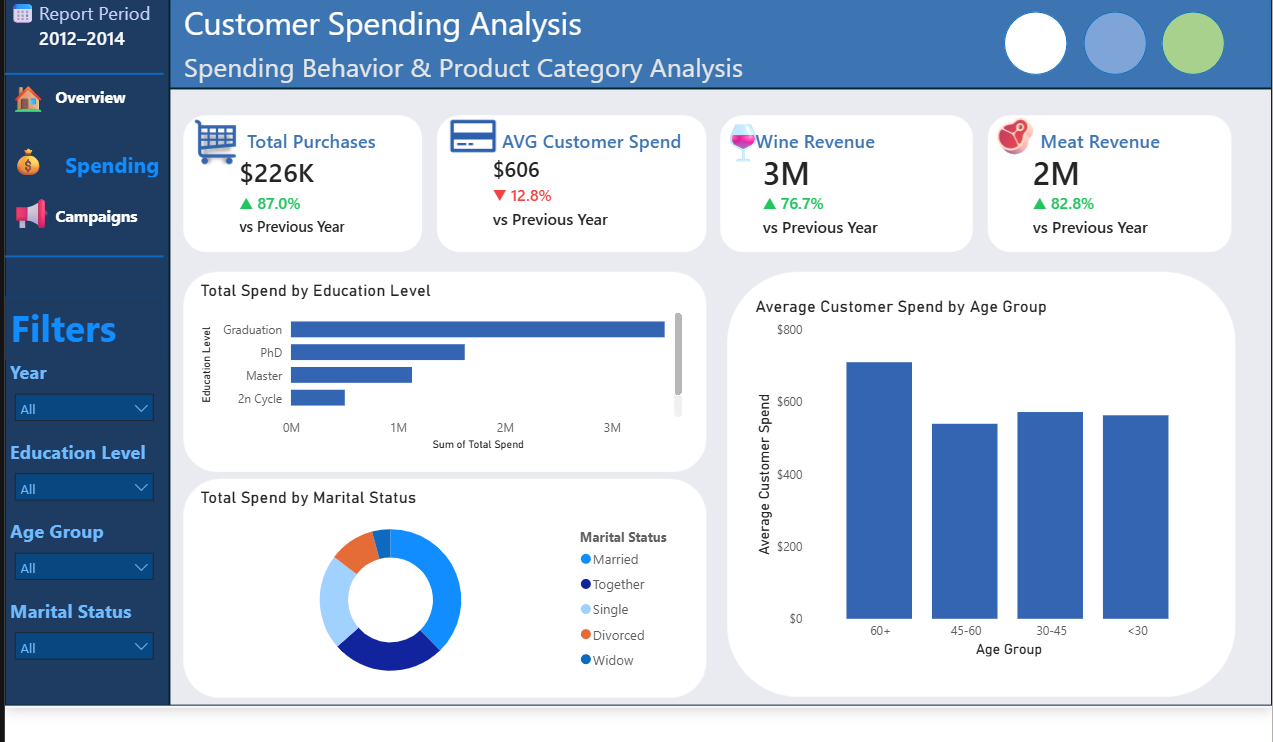

This screenshot's page, from the dashboard's own definition file:
{"tool":"powerbi","page":{"name":"Spending","canvas":[1280,720],"ordinal":1},"visuals":[{"type":"clusteredColumnChart","fields":{"Category":["cleaned_marketing_campaign.Age Group"],"Y":["Calendar.Average Customer Spend"]},"box":[752,304,464,368],"z":0},{"type":"donutChart","title":"Total Spend by Marital Status","fields":{"Category":["cleaned_marketing_campaign.Marital Status"],"Y":["Sum(cleaned_marketing_campaign.Total Spend)"]},"box":[192,496,496,208],"z":1000},{"type":"clusteredBarChart","title":"Total Spend by Education Level","fields":{"Category":["cleaned_marketing_campaign.Education Level"],"Y":["Sum(cleaned_marketing_campaign.Total Spend)"]},"box":[192,288,496,176],"z":2000},{"type":"cardVisual","fields":{"Data":["Calendar.Wine Revenue"]},"box":[736,128,208,96],"z":3000},{"type":"cardVisual","fields":{"Data":["Calendar.Total Purchases"]},"box":[208,128,208,96],"z":4000},{"type":"textbox","box":[240,128,208,48],"z":5000},{"type":"textbox","box":[496,128,208,48],"z":6000},{"type":"textbox","box":[1040,128,224,48],"z":7000},{"type":"pageNavigator","box":[32,72,144,184],"z":8000},{"type":"textbox","box":[0,80,80,48],"z":9000},{"type":"textbox","box":[0,144,64,48],"z":10000},{"type":"textbox","box":[0,192,48,64],"z":11000},{"type":"shape","box":[0,256,160,16],"z":12000},{"type":"shape","box":[0,64,160,32],"z":13000},{"type":"slicer","title":"Year","fields":{"Values":["cleaned_marketing_campaign.Customer Enrollment Date.Variation.Date Hierarchy.Year"]},"box":[0,368,160,80],"z":14000},{"type":"slicer","title":"Education Level","fields":{"Values":["cleaned_marketing_campaign.Education Level"]},"box":[0,448,160,80],"z":15000},{"type":"slicer","title":"Age Group","fields":{"Values":["cleaned_marketing_campaign.Age Group"]},"box":[0,528,160,80],"z":16000},{"type":"slicer","title":"Marital Status","fields":{"Values":["cleaned_marketing_campaign.Marital Status"]},"box":[0,608,160,64],"z":17000},{"type":"textbox","box":[0,304,160,64],"z":18000},{"type":"textbox","box":[176,0,608,64],"z":19000},{"type":"textbox","box":[0,0,160,80],"z":20000},{"type":"textbox","box":[176,48,672,64],"z":21000},{"type":"cardVisual","fields":{"Data":["Calendar.Average Customer Spend"]},"box":[464,128,240,96],"z":22000},{"type":"textbox","box":[752,128,208,48],"z":23000},{"type":"cardVisual","fields":{"Data":["Calendar.Meat Revenue"]},"box":[1008,128,160,96],"z":24000},{"type":"shape","box":[1008,16,64,64],"z":25000},{"type":"shape","box":[1088,16,64,64],"z":26000},{"type":"shape","box":[1168,16,64,64],"z":27000},{"type":"cardVisual","fields":{"Data":["Calendar.Purchase Growth Label"]},"box":[208,176,192,64],"z":28000},{"type":"cardVisual","fields":{"Data":["Calendar.Customer Growth Text"]},"box":[207.4,192.3,175.6,80.3],"z":30000},{"type":"cardVisual","fields":{"Data":["Calendar.Average Customer Spend Growth Label"]},"box":[464,144,176,112],"z":31000},{"type":"cardVisual","fields":{"Data":["Calendar.Customer Growth Text"]},"box":[464,192,240,64],"z":32000},{"type":"cardVisual","fields":{"Data":["Calendar.Wine Growth Label"]},"box":[736,176,256,64],"z":33000},{"type":"cardVisual","fields":{"Data":["Calendar.Customer Growth Text"]},"box":[735.9,199.9,255.9,65.1],"z":35000},{"type":"cardVisual","fields":{"Data":["Calendar.Meat Growth Label"]},"box":[1008,176,192,64],"z":36000},{"type":"cardVisual","fields":{"Data":["Calendar.Customer Growth Text"]},"box":[1008,192,256,80],"z":37000}]}

Visuals, with their boxes on the page's 1280x720 design canvas (x1, y1, x2, y2). These are canvas units, not pixel positions in the 1273x742 screenshot, which may show the page scaled, cropped or inside an application window:
clusteredColumnChart - cleaned_marketing_campaign.Age Group x Calendar.Average Customer Spend: (752, 304, 1216, 672)
"Total Spend by Marital Status" donutChart: (192, 496, 688, 704)
"Total Spend by Education Level" clusteredBarChart: (192, 288, 688, 464)
cardVisual - Calendar.Wine Revenue: (736, 128, 944, 224)
cardVisual - Calendar.Total Purchases: (208, 128, 416, 224)
textbox: (240, 128, 448, 176)
textbox: (496, 128, 704, 176)
textbox: (1040, 128, 1264, 176)
pageNavigator: (32, 72, 176, 256)
textbox: (0, 80, 80, 128)
textbox: (0, 144, 64, 192)
textbox: (0, 192, 48, 256)
shape: (0, 256, 160, 272)
shape: (0, 64, 160, 96)
"Year" slicer: (0, 368, 160, 448)
"Education Level" slicer: (0, 448, 160, 528)
"Age Group" slicer: (0, 528, 160, 608)
"Marital Status" slicer: (0, 608, 160, 672)
textbox: (0, 304, 160, 368)
textbox: (176, 0, 784, 64)
textbox: (0, 0, 160, 80)
textbox: (176, 48, 848, 112)
cardVisual - Calendar.Average Customer Spend: (464, 128, 704, 224)
textbox: (752, 128, 960, 176)
cardVisual - Calendar.Meat Revenue: (1008, 128, 1168, 224)
shape: (1008, 16, 1072, 80)
shape: (1088, 16, 1152, 80)
shape: (1168, 16, 1232, 80)
cardVisual - Calendar.Purchase Growth Label: (208, 176, 400, 240)
cardVisual - Calendar.Customer Growth Text: (207, 192, 383, 273)
cardVisual - Calendar.Average Customer Spend Growth Label: (464, 144, 640, 256)
cardVisual - Calendar.Customer Growth Text: (464, 192, 704, 256)
cardVisual - Calendar.Wine Growth Label: (736, 176, 992, 240)
cardVisual - Calendar.Customer Growth Text: (736, 200, 992, 265)
cardVisual - Calendar.Meat Growth Label: (1008, 176, 1200, 240)
cardVisual - Calendar.Customer Growth Text: (1008, 192, 1264, 272)
